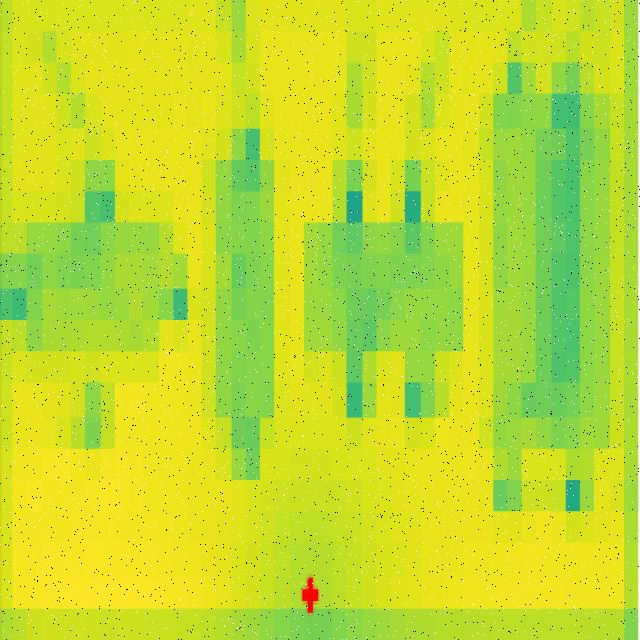Concrete: (305, 224, 464, 350)
Glass: (209, 162, 278, 416)
Metal: (493, 96, 611, 450)
Wood: (26, 222, 158, 354)
